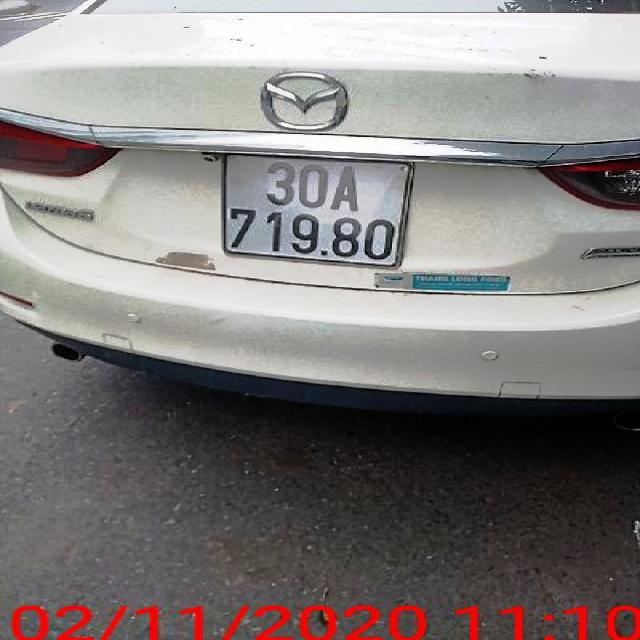license_plate: (225, 155, 414, 265)
